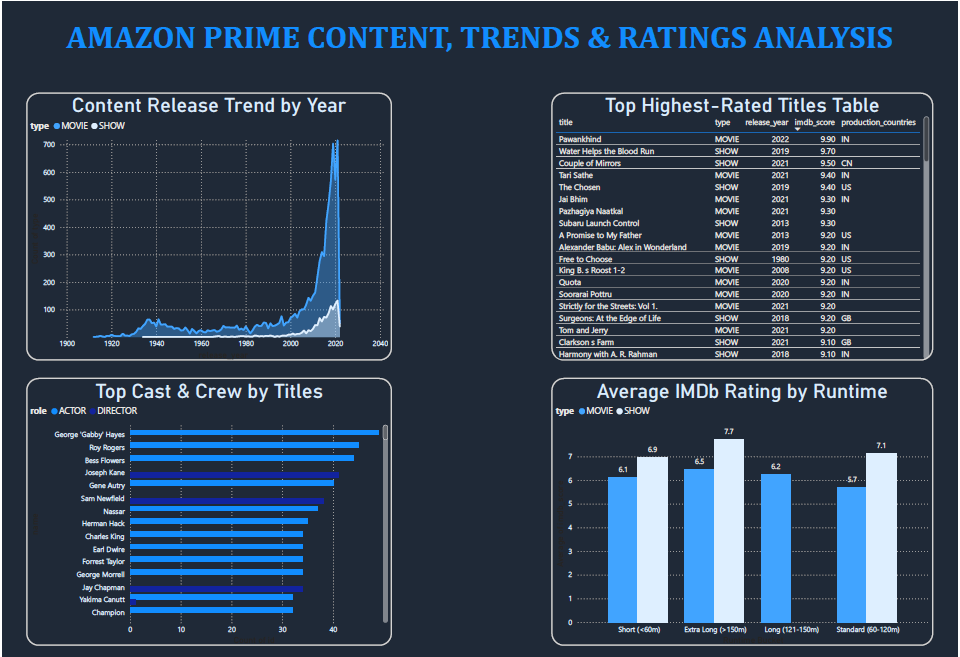

The page's visual inventory and layout, read from the dashboard file:
{"tool":"powerbi","page":{"name":"Deep-Dive","canvas":[1600,1100],"ordinal":1},"visuals":[{"type":"areaChart","title":"Content Release Trend by Year","fields":{"Category":["Tittles.release_year"],"Series":["Tittles.type"],"Y":["CountNonNull(Tittles.type)"]},"box":[40,153.3,613.3,448.9],"z":0},{"type":"clusteredBarChart","title":"Top Cast & Crew by Titles","fields":{"Category":["Credits.name"],"Series":["Credits.role"],"Y":["Count(Credits.id)"]},"box":[40,631.1,613.3,448.9],"z":1000},{"type":"tableEx","title":"Top Highest-Rated Titles Table","fields":{"Values":["Tittles.title","Tittles.type","Tittles.release_year","Tittles.imdb_score","Tittles.production_countries"]},"box":[920,153.3,640,448.9],"z":2000},{"type":"clusteredColumnChart","title":"Average IMDb Rating by Runtime","fields":{"Category":["Tittles.Runtime Bucket"],"Series":["Tittles.type"],"Y":["Avg(Tittles.imdb_score)"]},"box":[920,631.1,640,448.9],"z":3000},{"type":"textbox","box":[60,26.7,1480,82.2],"z":4000}]}

Visuals, with their boxes in screenshot pixels (x1, y1, x2, y2), scaled from the page's 1600x1100 canvas onto the 960x657 screenshot:
"Content Release Trend by Year" areaChart: box=[24, 92, 392, 360]
"Top Cast & Crew by Titles" clusteredBarChart: box=[24, 377, 392, 645]
"Top Highest-Rated Titles Table" tableEx: box=[552, 92, 936, 360]
"Average IMDb Rating by Runtime" clusteredColumnChart: box=[552, 377, 936, 645]
textbox: box=[36, 16, 924, 65]
